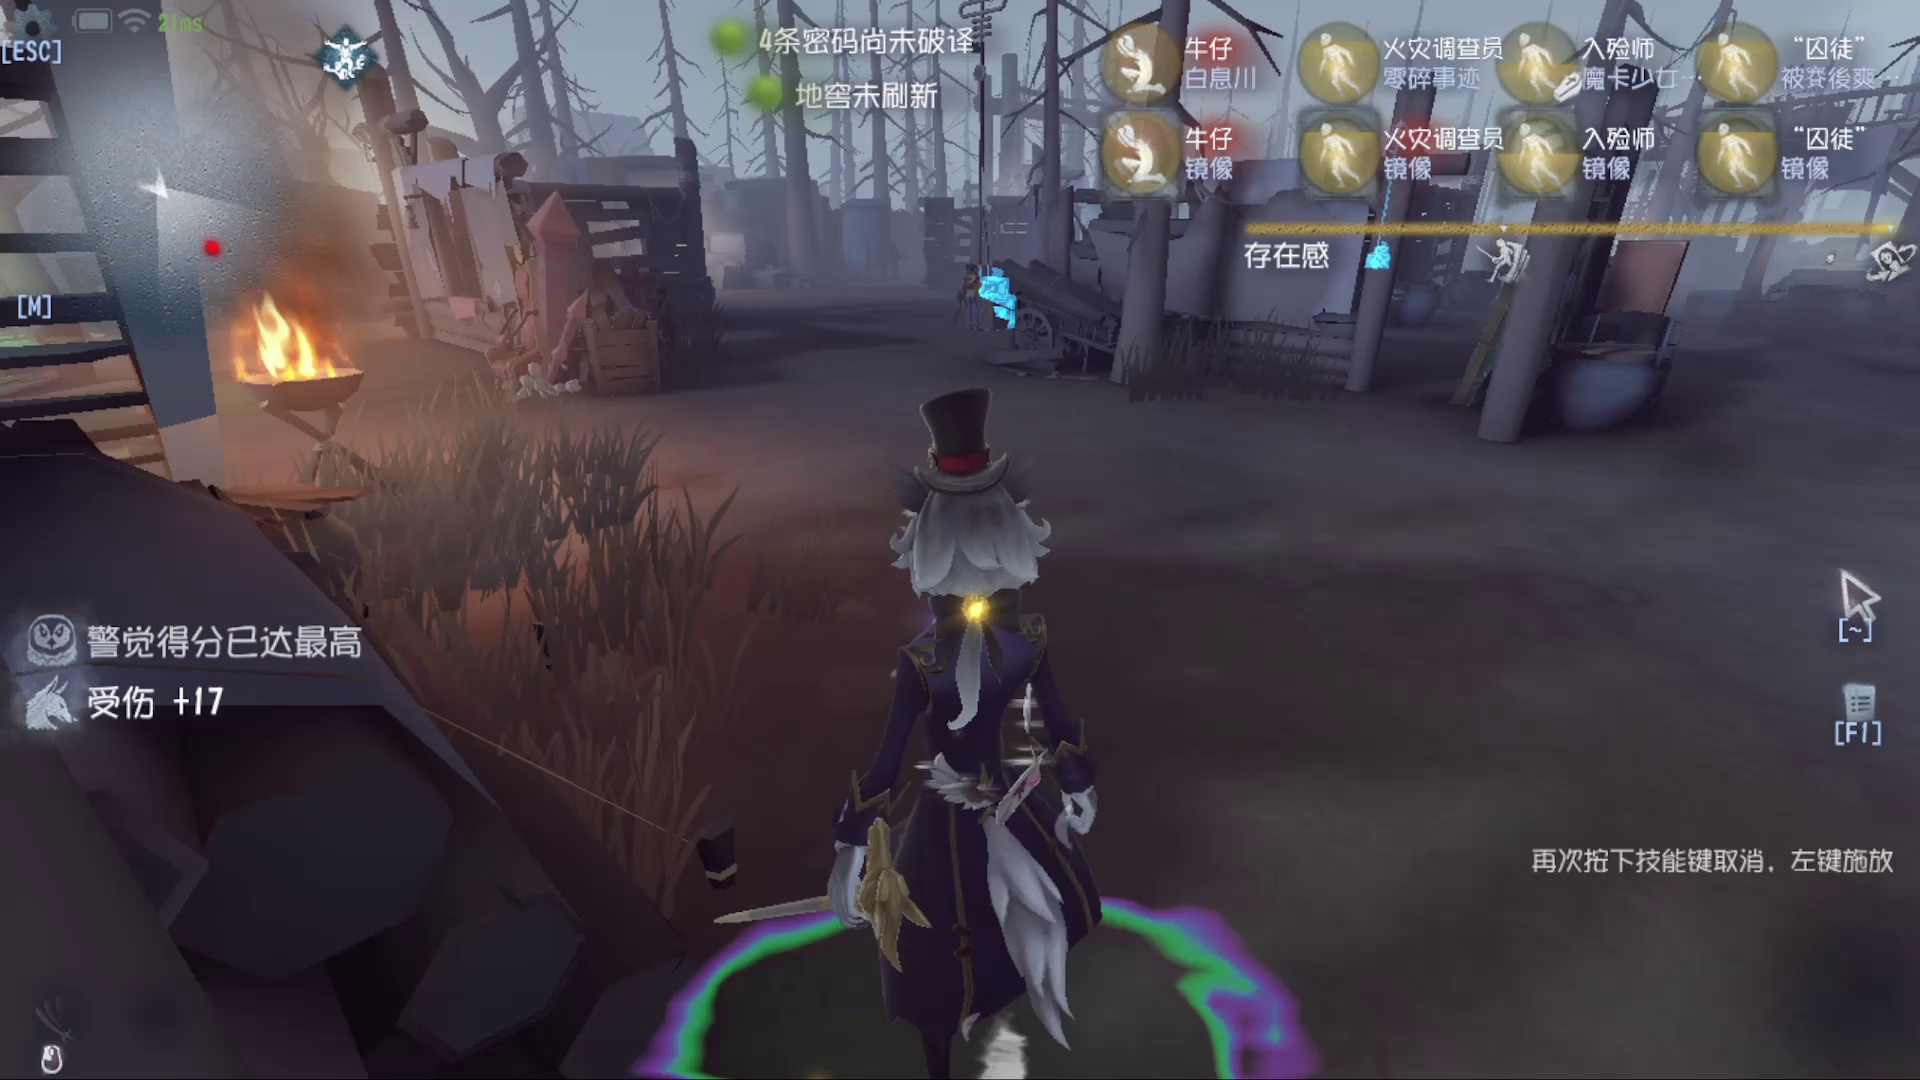密码机: (911, 36, 1069, 364)
木板: (1418, 251, 1518, 425)
狂欢之椅: (468, 196, 609, 407)
